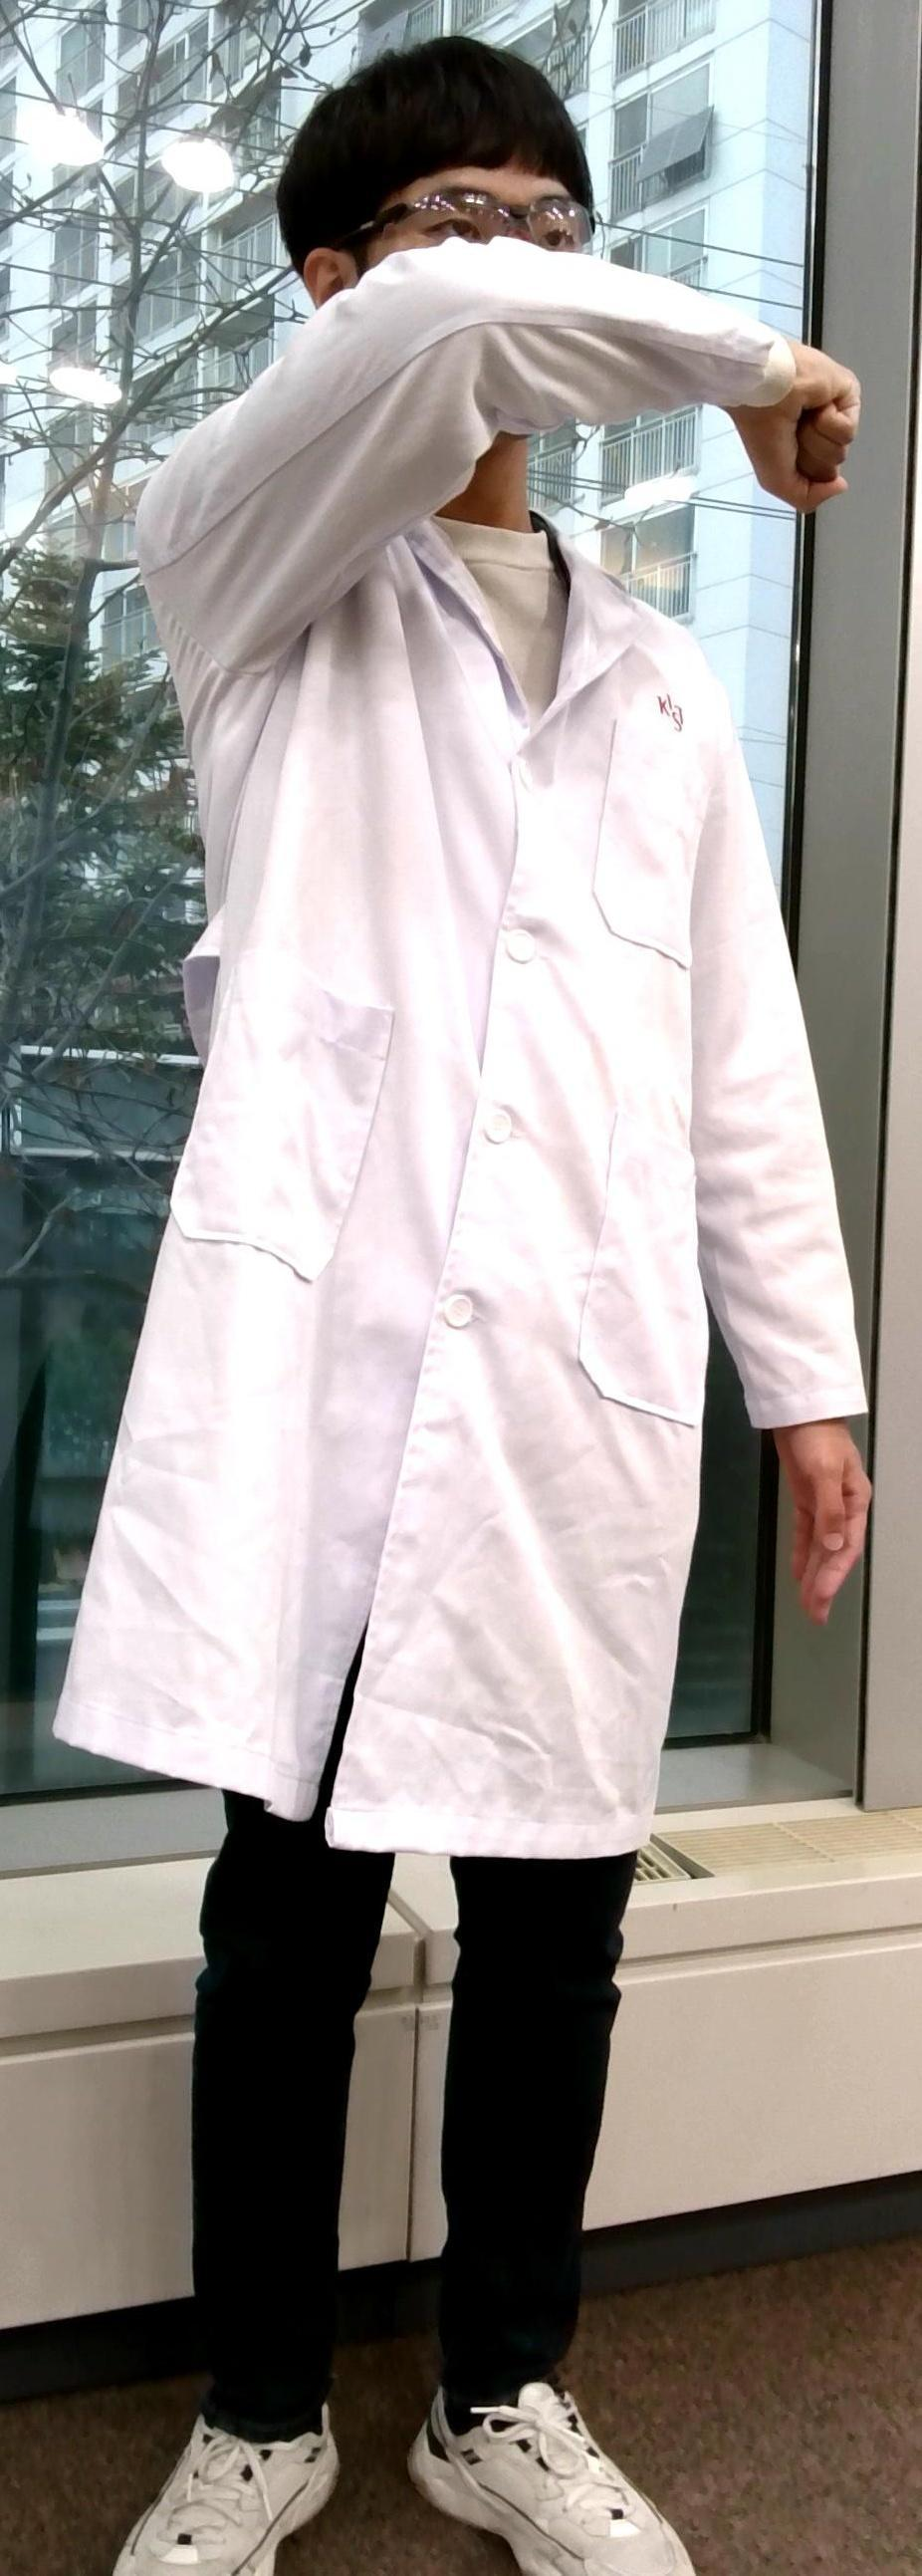lab_coat: (156, 519, 743, 1824)
